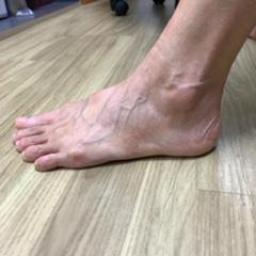Lateral View -Left Foot-: (4, 38, 251, 184)
